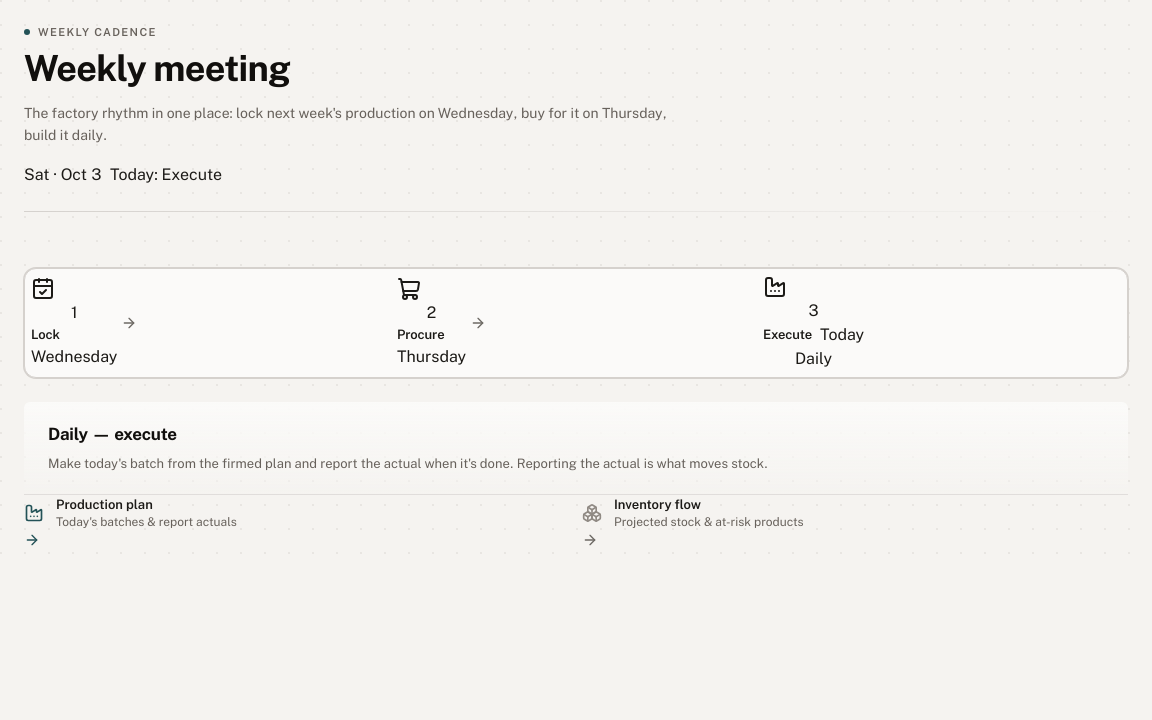
Test case: weekly-meeting cockpit — firm panel a11y › announces a generate success via role=status
Click the button with aria-label "Lock — Wednesday". click: (74, 323)
box: [31,278,117,369]
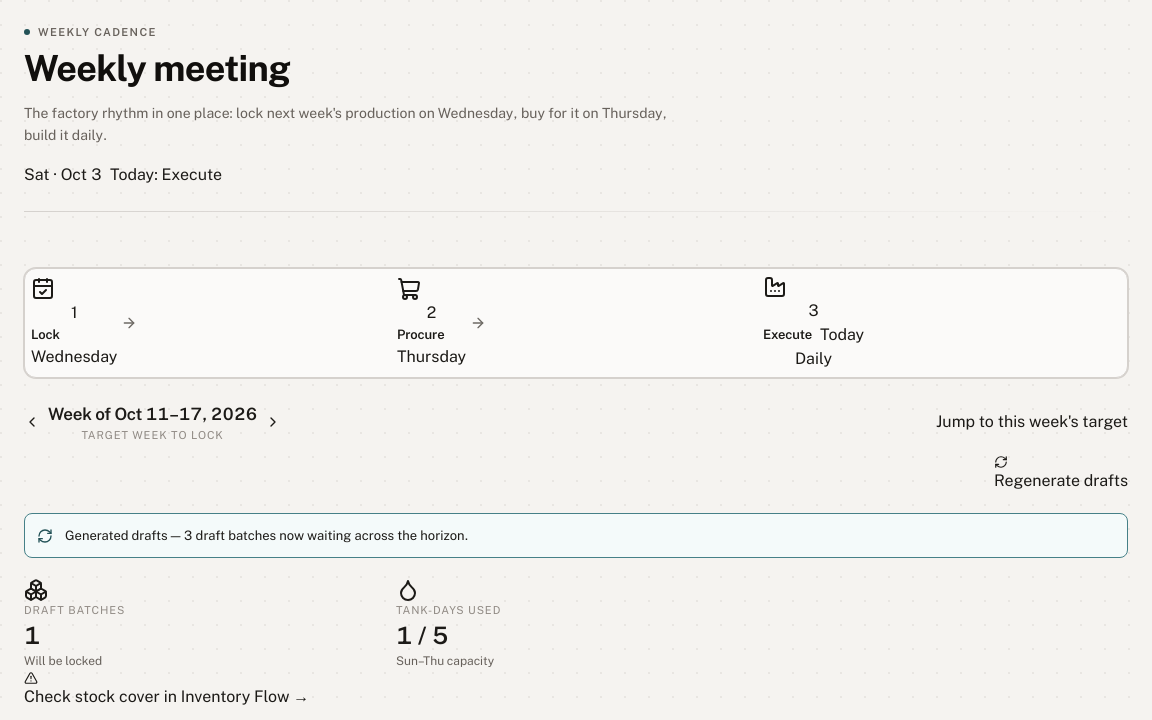
Expected: the message "Generated drafts — 3 draft batches now waiting across the horizon." is shown, [24,513,1128,558]
